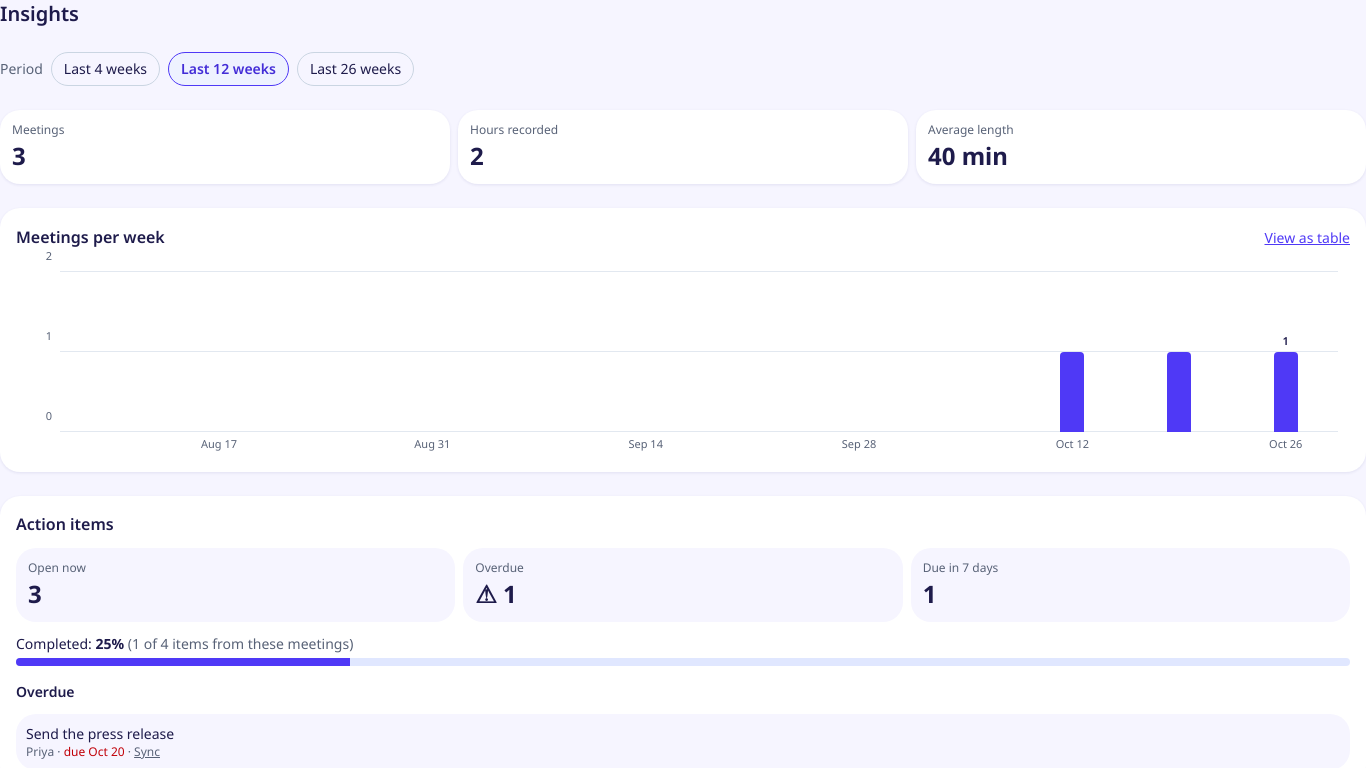
Test case: Insights page › draws one column per week with its figures reachable by keyboard and in a table
Check: the text "Meetings per week" is shown, box [16,225,165,249]
Click the button "View as table" at coordinates (1307, 238), box [1264,224,1350,252]
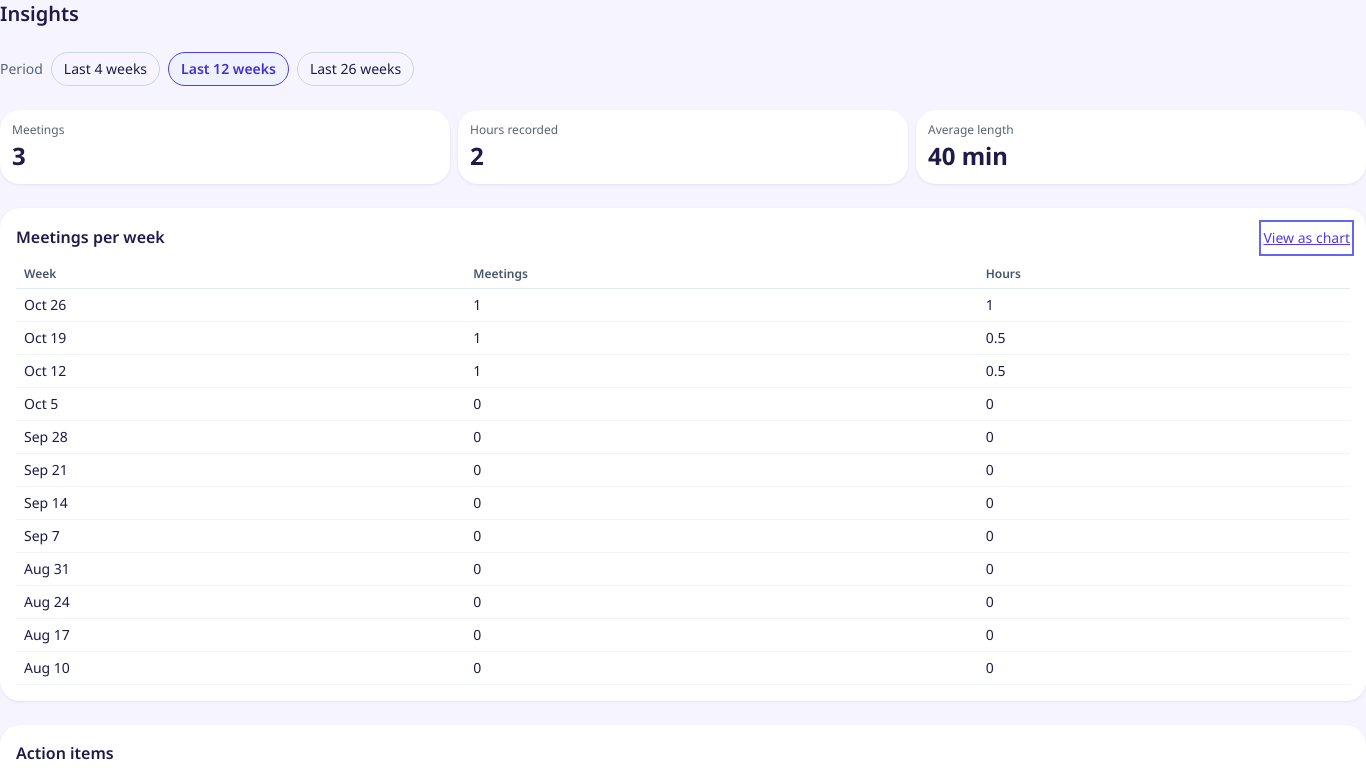
Check: the table named "Meetings per week" is shown, box [16,260,1350,685]
